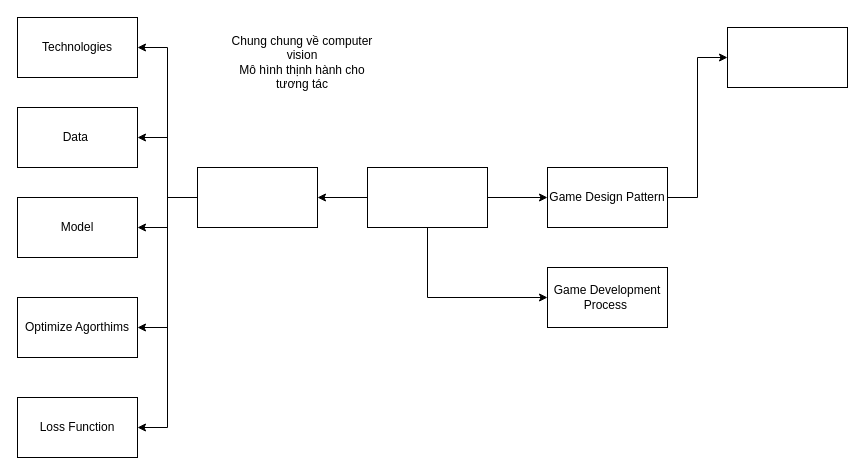
Image size: 865x475. Some labels were removed from this diagram. The centre of each missing label's shape, as x and y in pixels:
Computer vision: pixel 257 197
My Project: pixel 427 197
OOP: pixel 787 57
